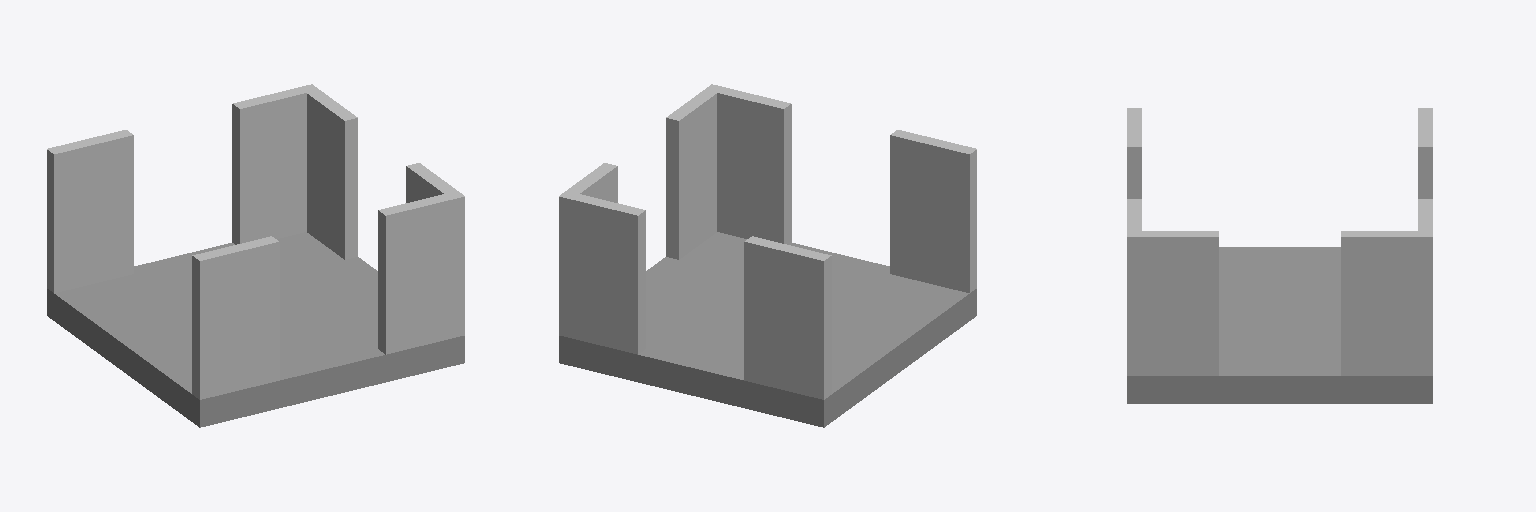
The model's file is hallway-3-exit_1.obj.
The picture shows the model from 3 angles: view 1: azimuth 30°, elevation 25°; view 2: azimuth 150°, elevation 25°; view 3: azimuth 270°, elevation 25°; orthographic projection.
Visible parts, largest first — view 1: Cube, Cube.002_Cube.007, Cube.003, Cube.007_Cube.008, Cube.001, Cube.005, Cube.004; view 2: Cube, Cube.003, Cube.002_Cube.007, Cube.001, Cube.007_Cube.008, Cube.004, Cube.005; view 3: Cube, Cube.005, Cube.004, Cube.007_Cube.008, Cube.002_Cube.007, Cube.003, Cube.001.
Part boxes in pixels (bbox=[...]): Cube: bbox=[47, 232, 464, 427]; Cube.002_Cube.007: bbox=[192, 236, 279, 399]; Cube.003: bbox=[47, 130, 133, 292]; Cube.007_Cube.008: bbox=[378, 191, 464, 354]; Cube.001: bbox=[232, 84, 318, 244]; Cube.005: bbox=[299, 84, 357, 259]; Cube.004: bbox=[406, 163, 464, 337]; Cube: bbox=[559, 232, 976, 427]; Cube.003: bbox=[744, 236, 831, 399]; Cube.002_Cube.007: bbox=[890, 130, 976, 292]; Cube.001: bbox=[559, 191, 645, 354]; Cube.007_Cube.008: bbox=[705, 84, 791, 244]; Cube.004: bbox=[666, 86, 724, 259]; Cube.005: bbox=[559, 163, 617, 337]; Cube: bbox=[1127, 247, 1432, 403]; Cube.005: bbox=[1341, 231, 1432, 375]; Cube.004: bbox=[1127, 231, 1218, 375]; Cube.007_Cube.008: bbox=[1127, 199, 1141, 375]; Cube.002_Cube.007: bbox=[1127, 108, 1141, 198]; Cube.003: bbox=[1418, 108, 1432, 198]; Cube.001: bbox=[1418, 199, 1432, 375].
Size of the model in its own units: 10 by 6 by 10.